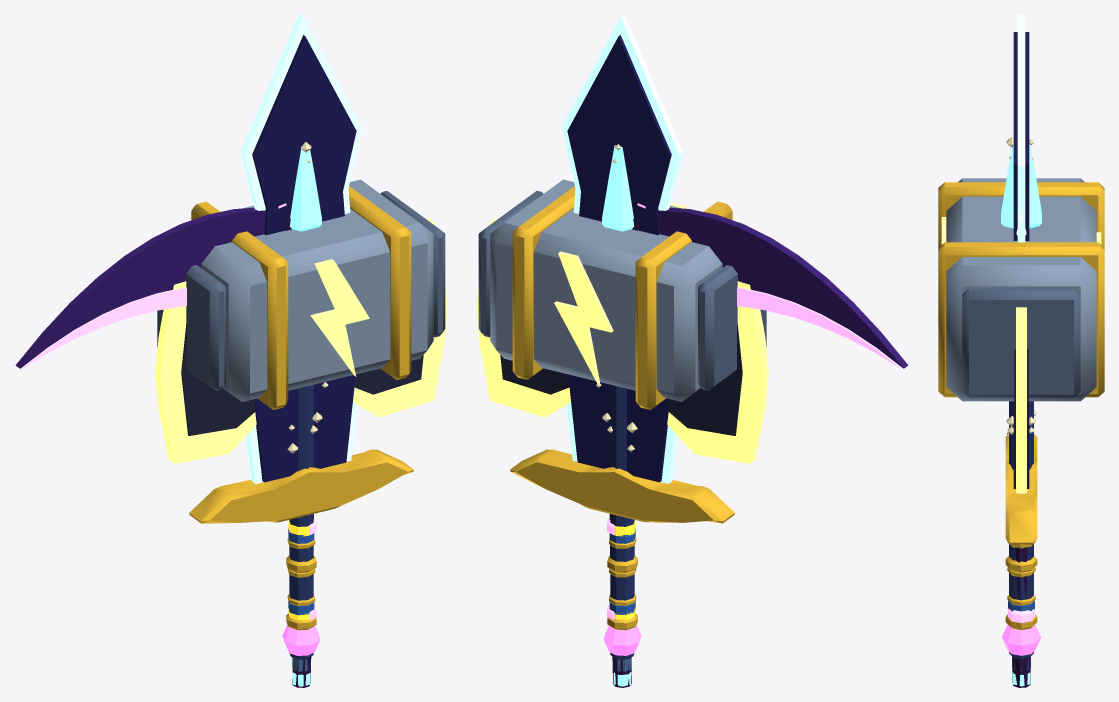
Rendered from Weapons.fbx.
3 views of the same model, side by side, from view 1: azimuth 30°, elevation 25°; view 2: azimuth 150°, elevation 25°; view 3: azimuth 270°, elevation 25° (orthographic).
Parts seen in each view (by area): view 1: ThunderHammer__Head, GalaxyGreatsword__Blade, ThunderHammer__Body1, VoidScythe__Blade, GalaxyGreatsword__Guard, ThunderHammer__Body2, PlasmaAxe__Blade2, GalaxyGreatsword__BladeEdge, PlasmaAxe__Body3, ThunderHammer__Bolt2, PlasmaAxe__Blade1, ThunderHammer__Handle (+3 smaller); view 2: ThunderHammer__Head, GalaxyGreatsword__Blade, ThunderHammer__Body1, VoidScythe__Blade, GalaxyGreatsword__Guard, ThunderHammer__Body2, PlasmaAxe__Blade2, GalaxyGreatsword__BladeEdge, PlasmaAxe__Body3, ThunderHammer__Bolt1, PlasmaAxe__Blade1, ThunderHammer__Handle (+3 smaller); view 3: ThunderHammer__Head, ThunderHammer__Body2, ThunderHammer__Body1, GalaxyGreatsword__Blade, GalaxyGreatsword__Guard, GalaxyGreatsword__BladeEdge, PlasmaAxe__Blade1, CrystalSpear__Crystal, ThunderHammer__Handle, GalaxyGreatsword__Body2, VoidScythe__Handle, PlasmaAxe__Body3 (+3 smaller).
Part boxes in pixels (bbox=[...]): ThunderHammer__Head: bbox=[183, 179, 433, 401]; GalaxyGreatsword__Blade: bbox=[252, 35, 356, 482]; ThunderHammer__Body1: bbox=[191, 186, 411, 630]; VoidScythe__Blade: bbox=[15, 207, 265, 368]; GalaxyGreatsword__Guard: bbox=[189, 449, 413, 523]; ThunderHammer__Body2: bbox=[157, 191, 445, 390]; PlasmaAxe__Blade2: bbox=[155, 281, 256, 463]; GalaxyGreatsword__BladeEdge: bbox=[240, 14, 361, 483]; PlasmaAxe__Body3: bbox=[181, 323, 423, 435]; ThunderHammer__Bolt2: bbox=[310, 259, 369, 376]; PlasmaAxe__Blade1: bbox=[353, 218, 447, 417]; ThunderHammer__Handle: bbox=[289, 384, 313, 659]; ThunderHammer__Head: bbox=[490, 179, 740, 401]; GalaxyGreatsword__Blade: bbox=[567, 35, 671, 482]; ThunderHammer__Body1: bbox=[512, 186, 732, 630]; VoidScythe__Blade: bbox=[658, 207, 908, 368]; GalaxyGreatsword__Guard: bbox=[510, 449, 734, 523]; ThunderHammer__Body2: bbox=[478, 191, 766, 390]; PlasmaAxe__Blade2: bbox=[667, 281, 768, 463]; GalaxyGreatsword__BladeEdge: bbox=[562, 14, 683, 483]; PlasmaAxe__Body3: bbox=[500, 323, 742, 435]; ThunderHammer__Bolt1: bbox=[554, 251, 613, 383]; PlasmaAxe__Blade1: bbox=[476, 217, 570, 417]; ThunderHammer__Handle: bbox=[610, 384, 634, 659]; ThunderHammer__Head: bbox=[946, 178, 1096, 401]; ThunderHammer__Body2: bbox=[962, 288, 1080, 398]; ThunderHammer__Body1: bbox=[938, 182, 1104, 629]; GalaxyGreatsword__Blade: bbox=[1013, 32, 1029, 488]; GalaxyGreatsword__Guard: bbox=[1005, 435, 1037, 544]; GalaxyGreatsword__BladeEdge: bbox=[1017, 14, 1025, 493]; PlasmaAxe__Blade1: bbox=[1016, 307, 1026, 492]; CrystalSpear__Crystal: bbox=[1001, 143, 1041, 228]; ThunderHammer__Handle: bbox=[1009, 401, 1033, 659]; GalaxyGreatsword__Body2: bbox=[1001, 624, 1041, 655]; VoidScythe__Handle: bbox=[1012, 547, 1030, 687]; PlasmaAxe__Body3: bbox=[1014, 349, 1028, 461].
Bounding box in the file's own units: 6.25 × 9.4 × 2.1.
